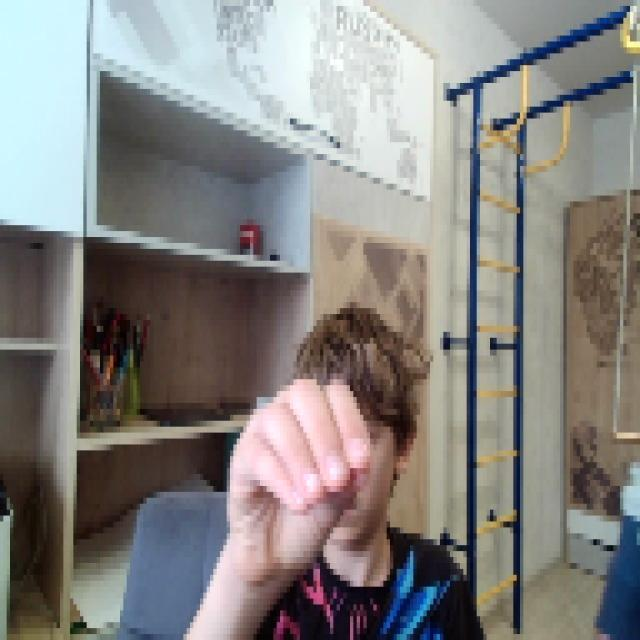left_click: (227, 367, 370, 569)
